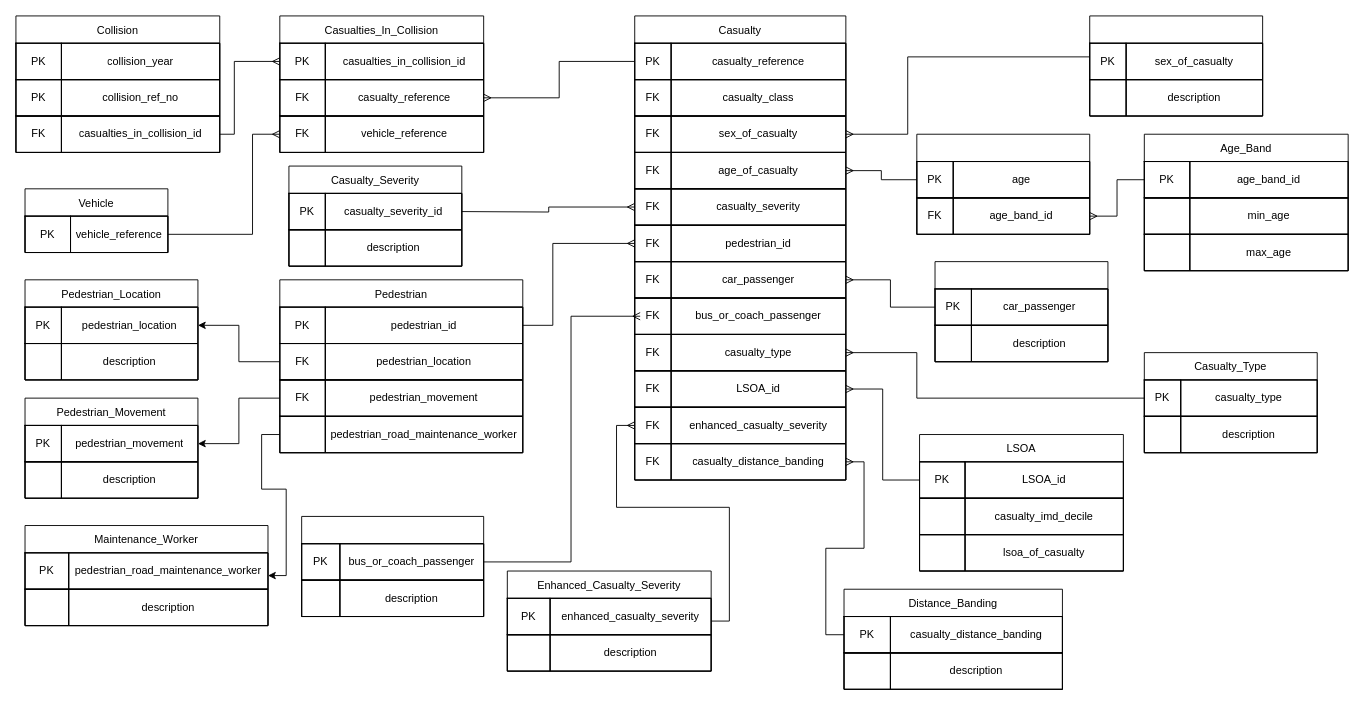
Some shapes in this 1364 by 705 pixel diagram are drawn without their labels. Here are the shapes that lost their labels. From the top down, the box of each, then its label:
(1089, 15, 1263, 116): Casualty_Sex
(916, 133, 1090, 234): Age_Band_to_Age
(934, 261, 1108, 362): Passenger_Location
(301, 516, 484, 617): Bus_Coach_Location
